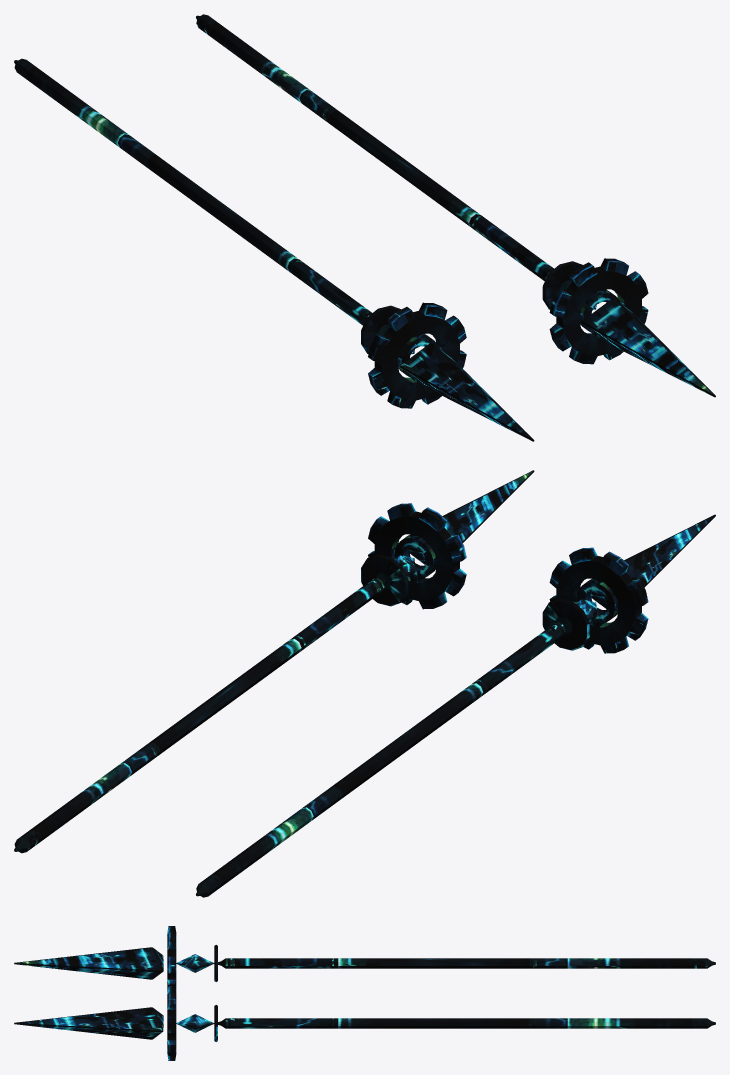
File: jacqueline0.glb
3 views of the same model, one above another, from view 1: azimuth 30°, elevation 25°; view 2: azimuth 150°, elevation 25°; view 3: azimuth 270°, elevation 25° (orthographic). The views are drawn at different scales.
Visible parts, largest first — view 1: CH_Jacqueline_WP_Base; view 2: CH_Jacqueline_WP_Base; view 3: CH_Jacqueline_WP_Base.
Part boxes in pixels (left/top/right/bottom): CH_Jacqueline_WP_Base: left=14, top=14, right=715, bottom=441; CH_Jacqueline_WP_Base: left=14, top=470, right=715, bottom=897; CH_Jacqueline_WP_Base: left=14, top=926, right=715, bottom=1060.
Size of the model in its own units: 0.5183 by 0.1766 by 1.69.
1 material, 1 textured.
